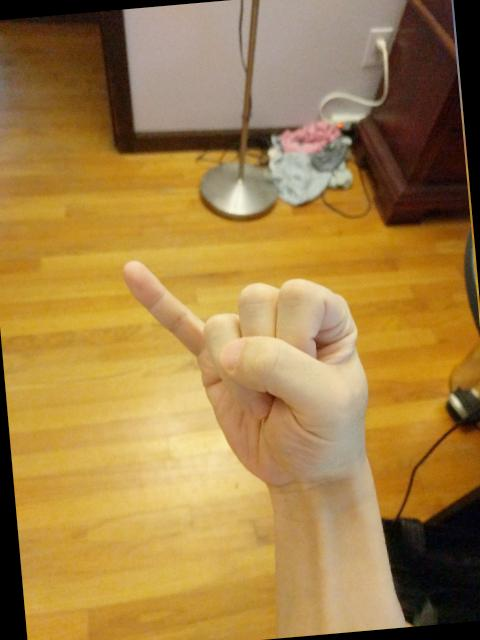I: (116, 236, 383, 505)
